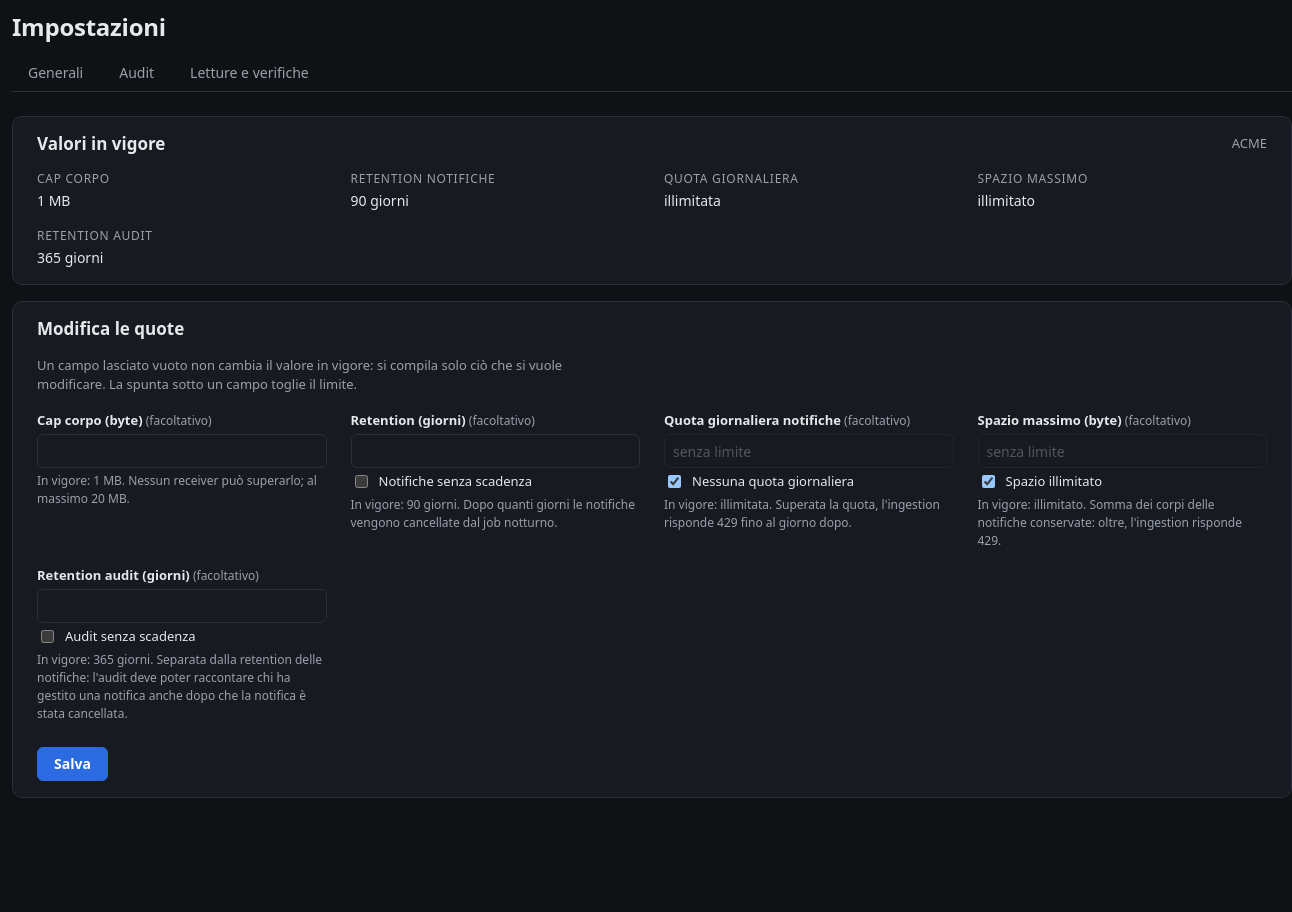
it: SettingsPage › una quota oltre il massimo dello schema si ferma sul campo, senza richiesta
In the number field labelled "Retention (giorni)": (495, 451) 350,434 -> 640,468, type "3000000000"
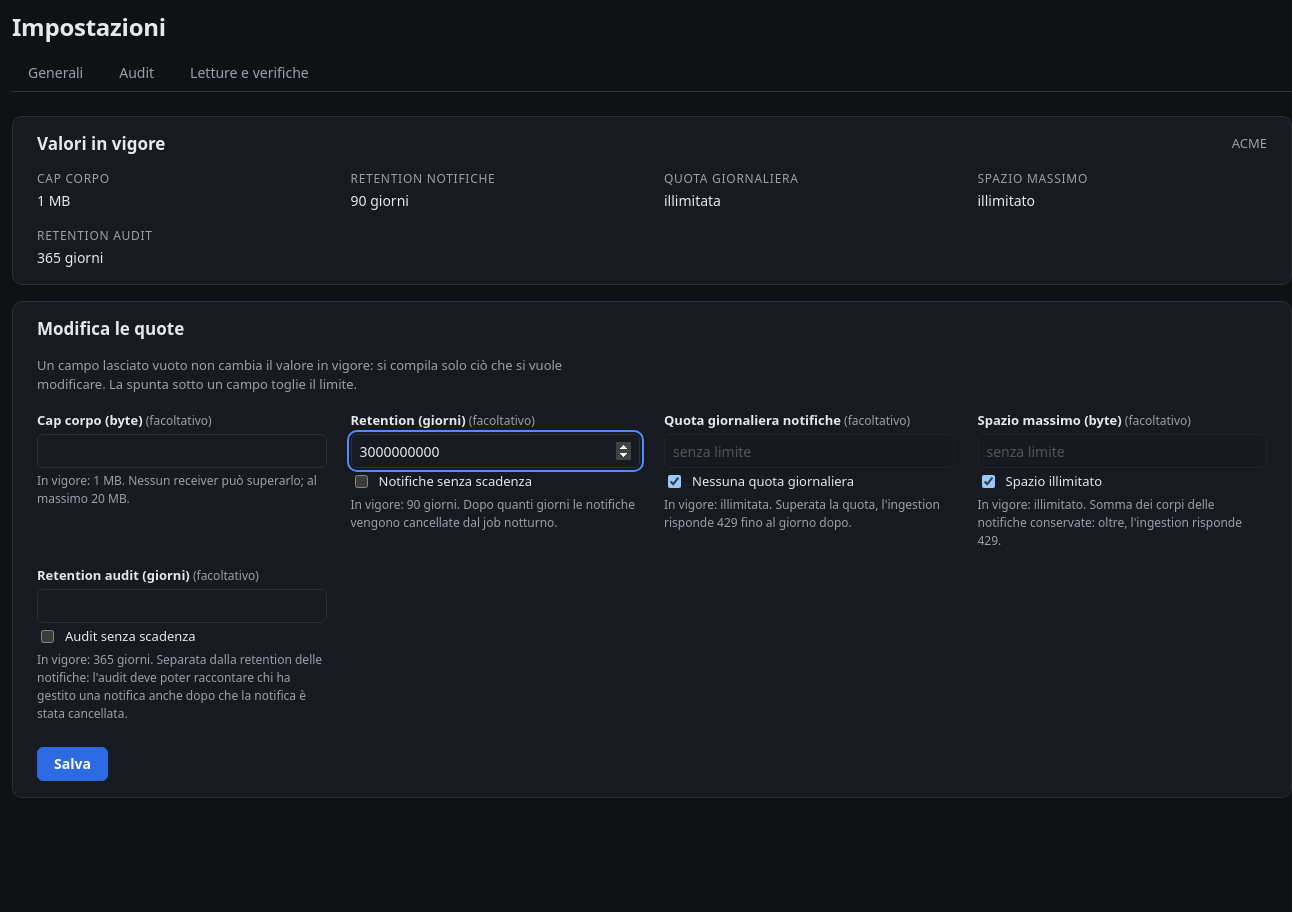
// Lo spazio parte illimitato nella fixture: si toglie la spunta per scriverci.
Click the checkbox labelled "Spazio illimitato": click(988, 482) 982,475 -> 994,488
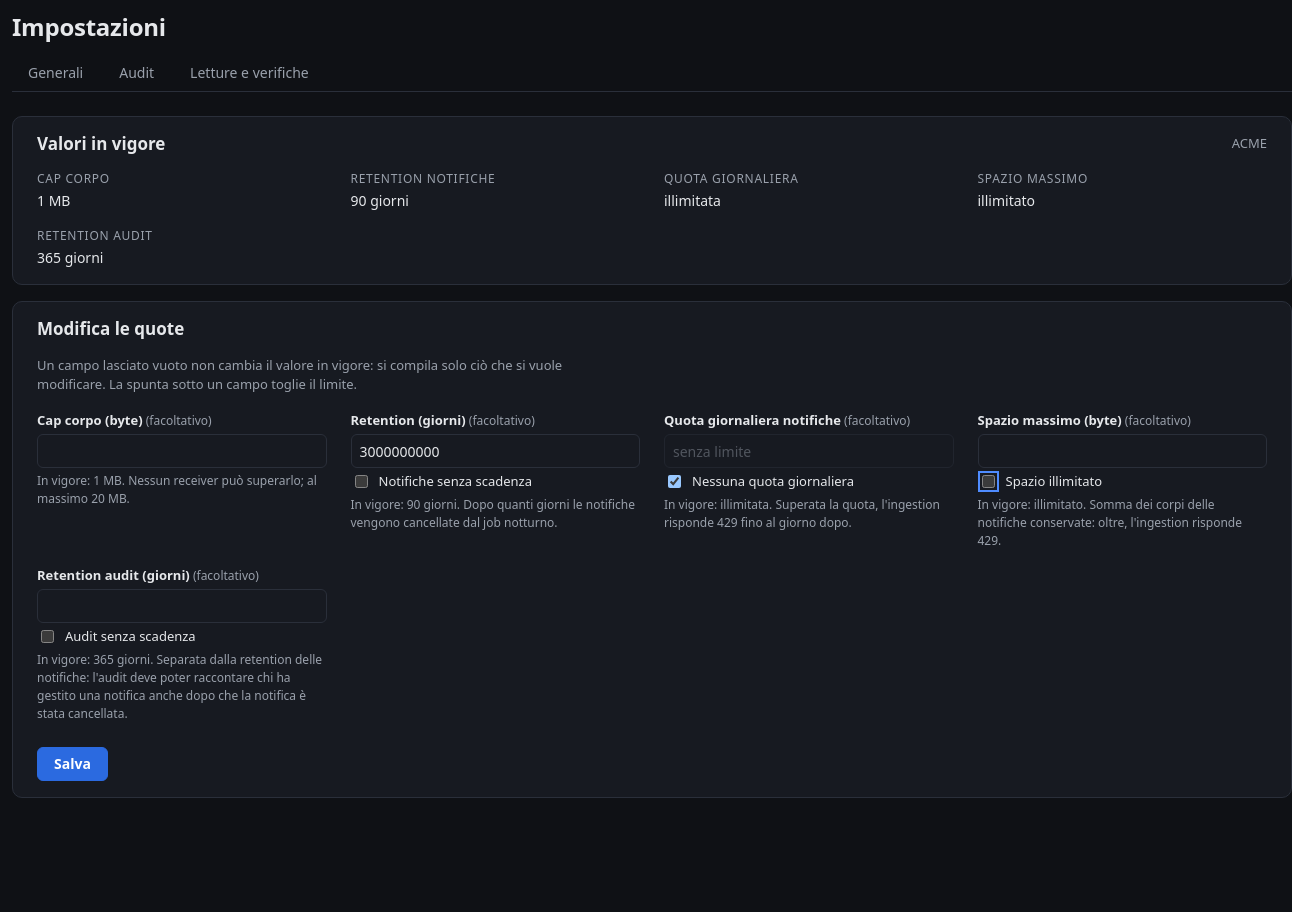
In the number field labelled "Spazio massimo (byte)": (1122, 451) 978,434 -> 1267,468, type "99999999999999999999"
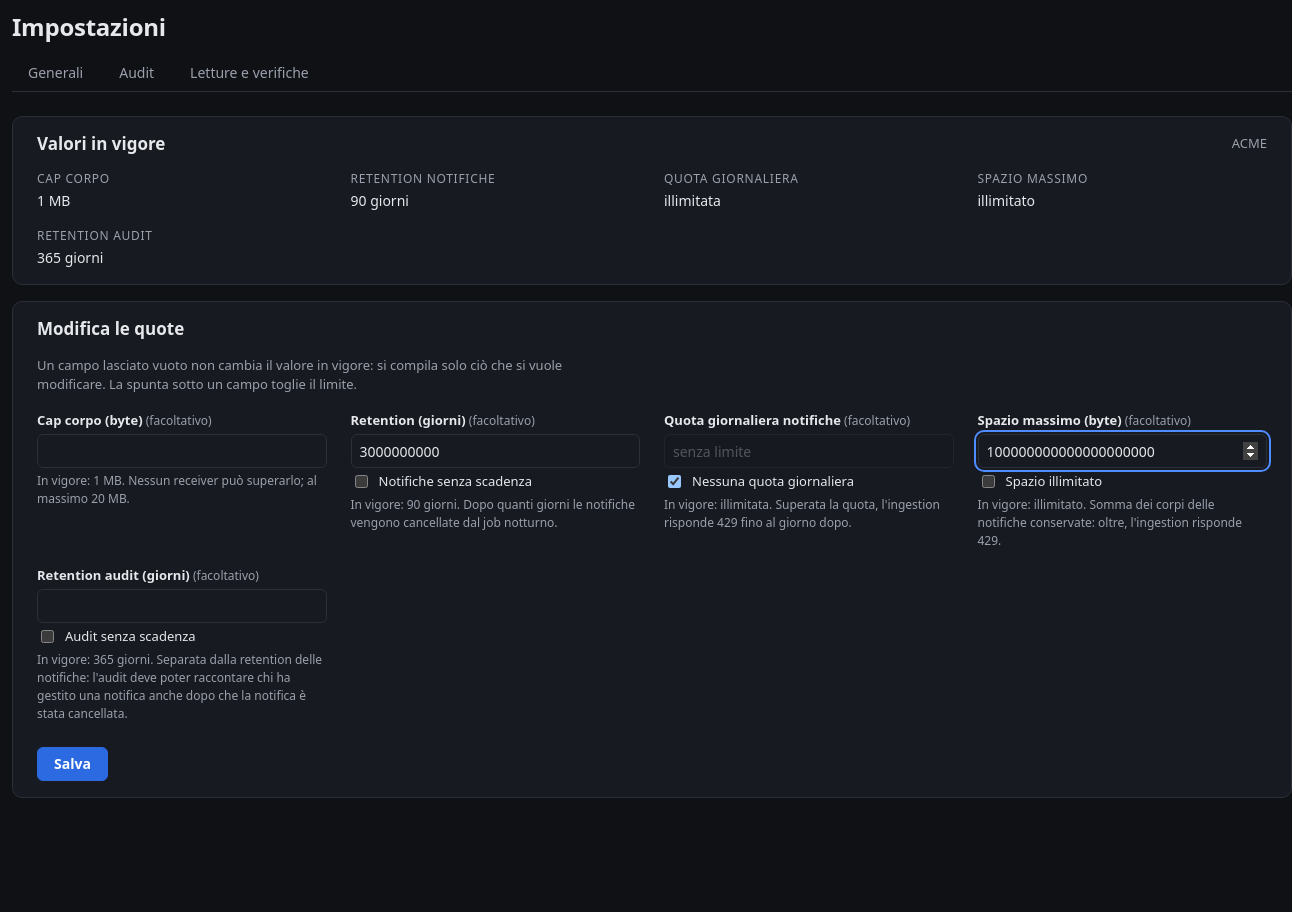
Click the button "Salva": click(72, 764) 37,746 -> 108,781
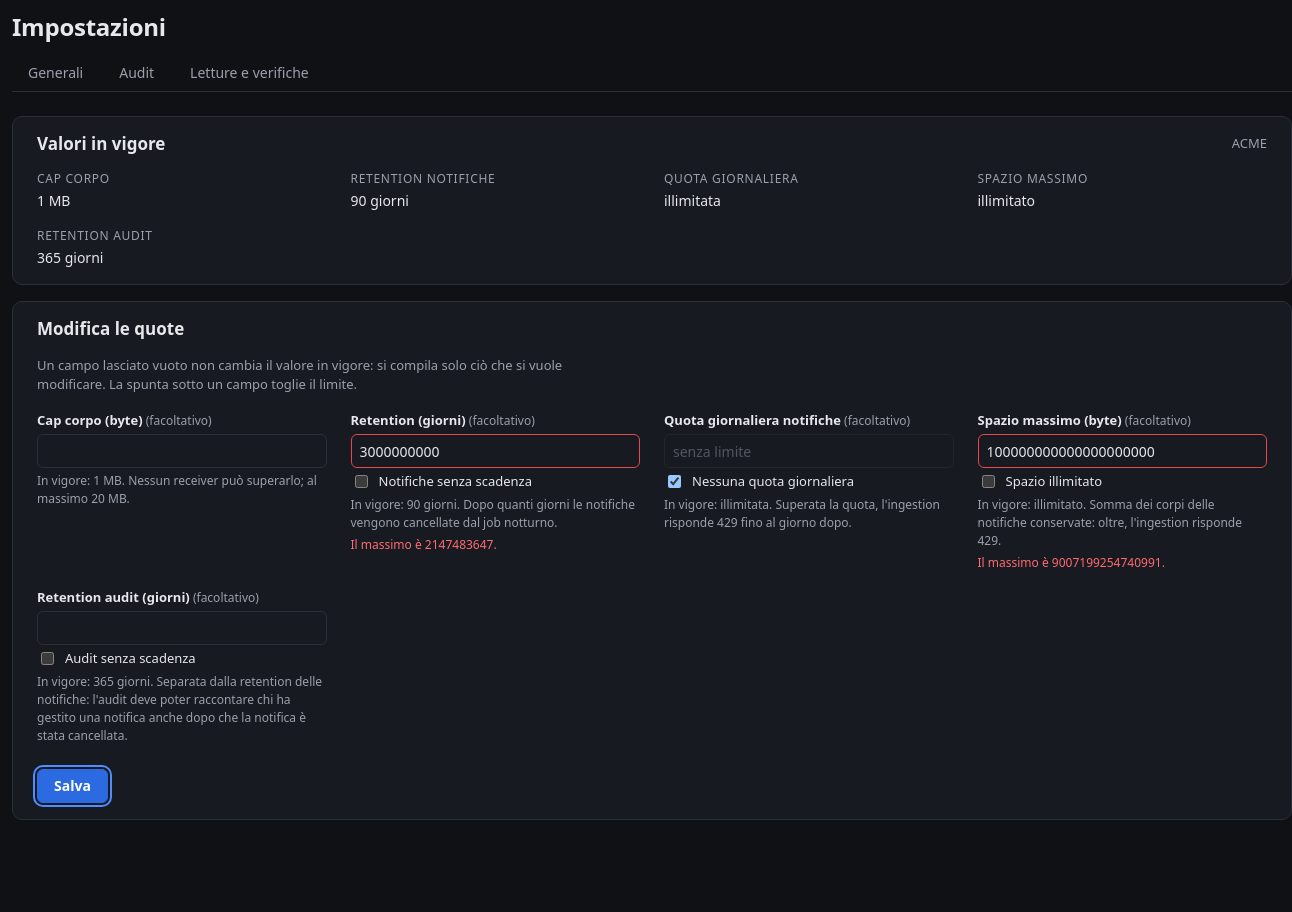
expect the text "Il massimo è 2147483647." is shown: met, box 350,536 -> 497,552
expect the text "Il massimo è 9007199254740991." is shown: met, box 978,554 -> 1165,570
